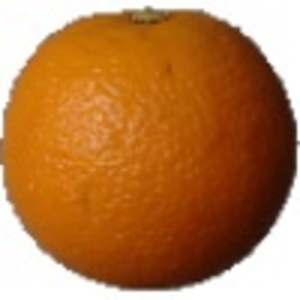laranja: (2, 5, 297, 294)
